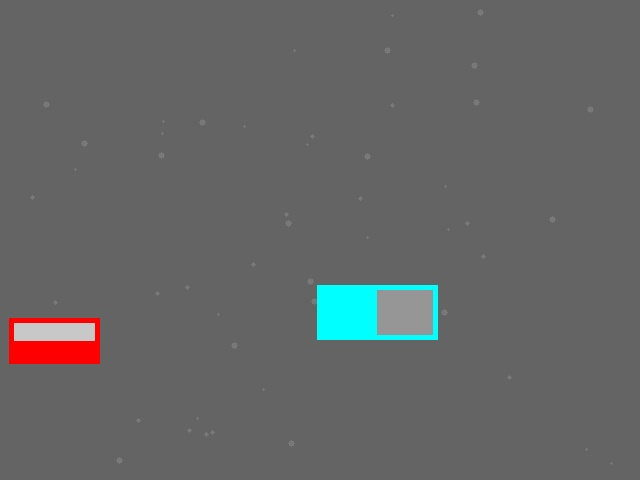car: (9, 318, 99, 363)
truck: (317, 285, 437, 339)
